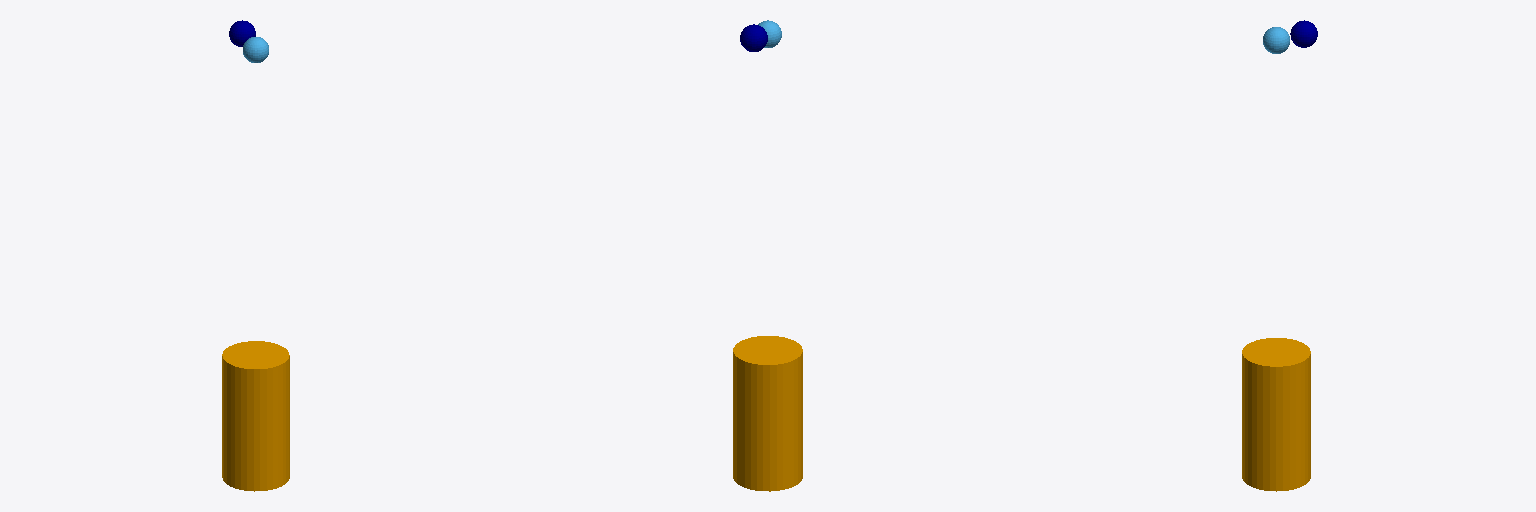
The robot description file, URDF, robot "PBot_fixed_description":
<?xml version="1.0" ?>
<!--simple pbot-->

<robot name="PBot_fixed_description">
    <link name="base_link">
        <inertial>
            <origin xyz="0.0 0.0 0.0" rpy="0 0 0" />
            <mass value="1" />
            <inertia ixx="0.1" iyy="0.1" izz="0.1" ixy="0" ixz="0" iyz="0" />
        </inertial>
        <collision>
            <origin xyz="0.0 0.0 -1.0" rpy="0 0 0" />
            <geometry>
                <cylinder radius="0.25" length="1.0"/>
            </geometry>
        </collision>
        <visual>
            <origin xyz="0.0 0.0 -1.0" rpy="0 0 0" />
            <geometry>
                <cylinder radius="0.25" length="1.0"/>
            </geometry>
        </visual>
    </link>
    <link name="link0">
        <inertial>
            <origin xyz="0.0 0.0 0.0" rpy="0 0 0" />
            <mass value="1" />
            <inertia ixx="0.1" iyy="0.1" izz="0.1" ixy="0" ixz="0" iyz="0" />
        </inertial>
        <collision>
            <origin xyz="0.0 0.0 0.0" rpy="0 0 0" />
            <geometry>
                <sphere radius="0.1" />
            </geometry>
        </collision>
        <visual>
            <origin xyz="0.0 0.0 0.0" rpy="0 0 0" />
            <geometry>
                <sphere radius="0.1" />
            </geometry>
        </visual>
    </link>
    <link name="link1">
        <inertial>
            <origin xyz="0.0 0.0 0.0" rpy="0 0 0" />
            <mass value="0.5" />
            <inertia ixx="0.1" iyy="0.1" izz="0.1" ixy="0" ixz="0" iyz="0" />
        </inertial>
        <visual>
            <origin xyz="0.0 0.0 0.0" rpy="0 0 0" />
            <geometry>
                <sphere radius="0.1" />
            </geometry>
            <material name="material_blue">
                <color rgba="0.0 0.0 0.6 1.0" />
            </material>
        </visual>
    </link>
    
    <joint name="j0" type="prismatic">
        <parent link="base_link" />
        <child link="link0" />
        <origin xyz="0.000000 0.000000 2.000000" rpy="-0.000000 0.000000 -0.000000" />
        <axis xyz="0 0 1" />
        <limit lower="-2.967" upper="2.967" effort="176" velocity="1.7104" />
    </joint>
    <joint name="j1" type="fixed">
        <parent link="link0" />
        <child link="link1" />
        <origin xyz="0.000000 0.201000 0.050000" rpy="-0.000000 0.000000 -0.000000" />
        <limit lower="-2.967" upper="2.967" effort="176" velocity="1.7104" />
    </joint>
    
</robot>

--- What the picture shows (computed from the rendered views, not written in the file) ---
The picture shows the robot from 3 angles, left to right: view 1: azimuth 30°, elevation 25°; view 2: azimuth 150°, elevation 25°; view 3: azimuth 270°, elevation 25°; orthographic projection.
Model PBot_fixed_description with 3 links and 2 joints (1 prismatic, 1 fixed), rooted at base_link, posed all joints at 0.
Links seen in each view (by area): view 1: base_link, link0; view 2: base_link, link1; view 3: base_link, link0, link1.
Link boxes in pixels (x1,y1,x2,y2): base_link: (222, 341, 289, 491); link0: (243, 37, 268, 62); base_link: (733, 336, 802, 491); link1: (740, 24, 767, 51); base_link: (1242, 338, 1310, 491); link0: (1263, 27, 1289, 53); link1: (1290, 20, 1317, 47).
Bounding box of the posed robot: 0.5 × 0.551 × 3.65 m (x, y, z).
Geometry: primitives only (box / cylinder / sphere), no mesh files.